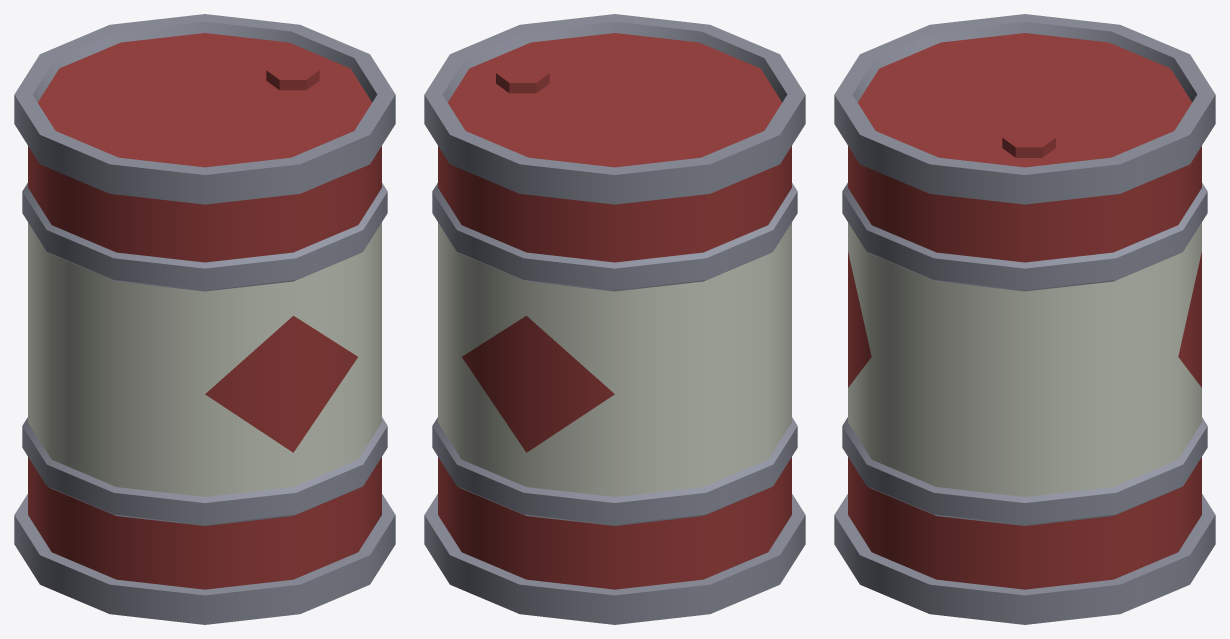
File: quaternius-toon-shooter-game-explodingbarrel.glb
The picture shows the model from 3 angles, left to right: view 1: azimuth 30°, elevation 25°; view 2: azimuth 150°, elevation 25°; view 3: azimuth 270°, elevation 25°; orthographic projection.
Visible parts, largest first — view 1: ExplodingBarrel; view 2: ExplodingBarrel; view 3: ExplodingBarrel.
Part boxes in pixels (x1,y1,x2,y2): ExplodingBarrel: (14, 14, 395, 624); ExplodingBarrel: (424, 14, 805, 624); ExplodingBarrel: (834, 14, 1215, 624).
Size of the model in its own units: 0.785 by 1.02 by 0.785.
